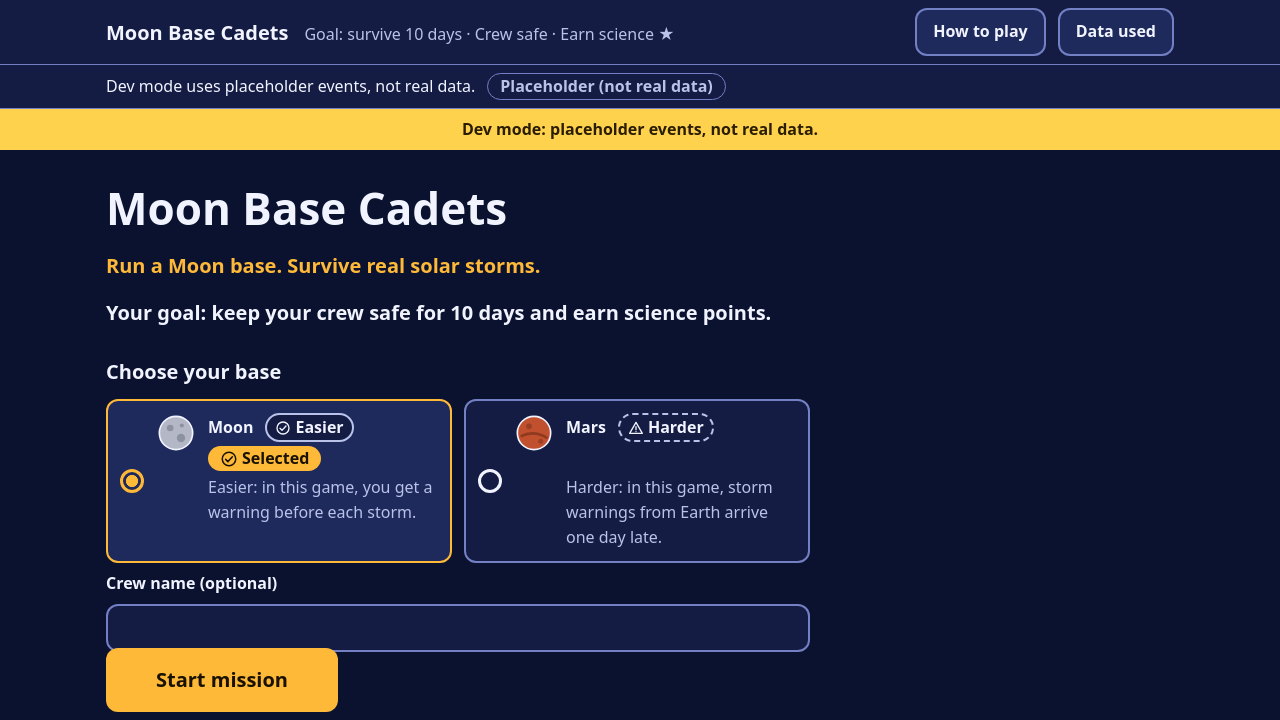
Test case: App with Mars › plays a Mars mission with Sol wording and the Mars theme
Expected: the button "Start mission" is shown, left=106, top=648, right=338, bottom=712
Click the radio button labelled "Mars".
click(637, 481)  # box left=464, top=399, right=810, bottom=563
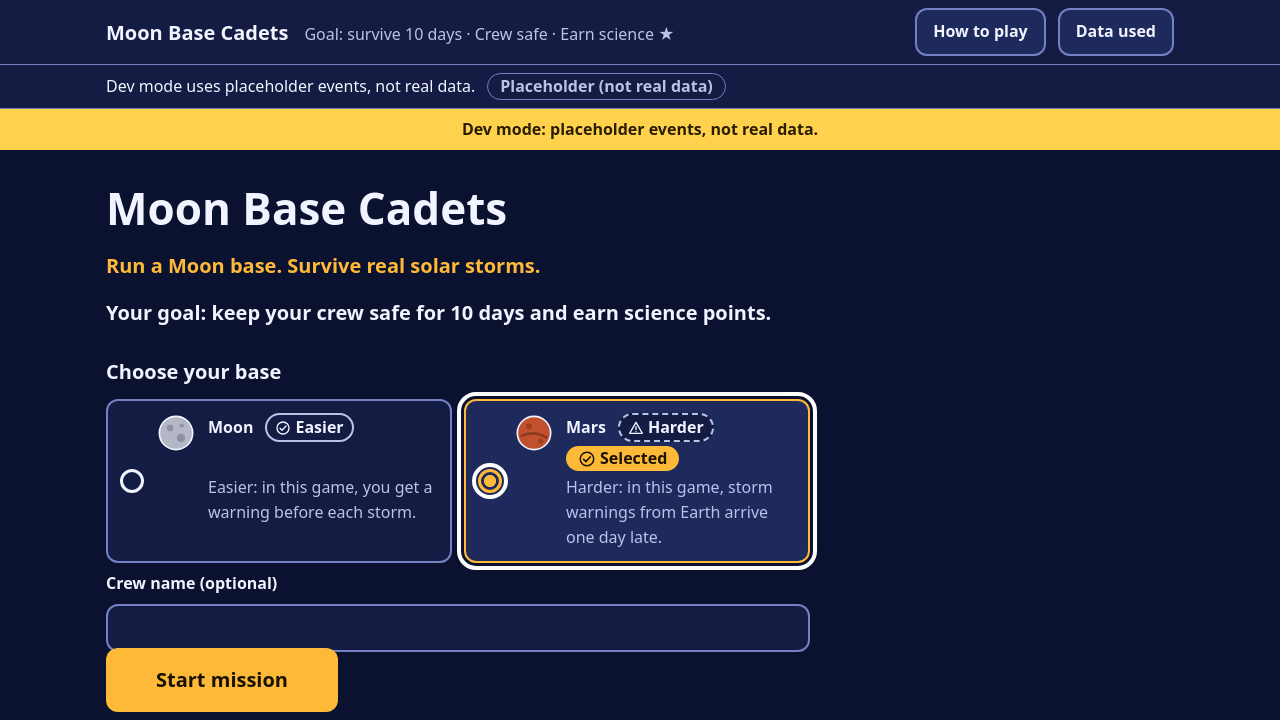
Click the button "Start mission".
click(222, 680)  # box left=106, top=648, right=338, bottom=712
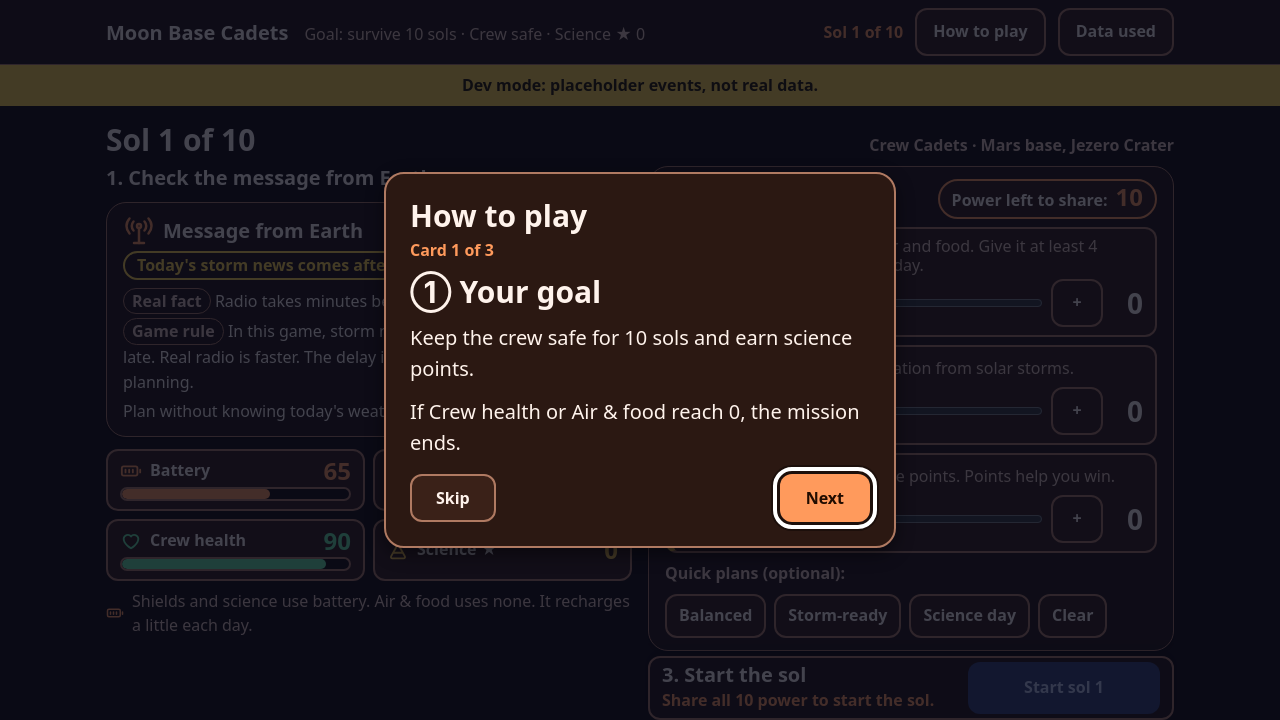
Result: the text "Sol 1 of 10" is shown at left=824, top=20, right=903, bottom=44
Result: the text "Crew Cadets · Mars base, Jezero Crater" is shown at left=869, top=133, right=1174, bottom=158
